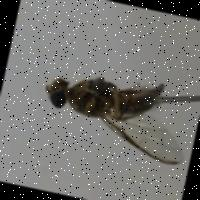Oriental-fruit-fly: (26, 52, 196, 172)
